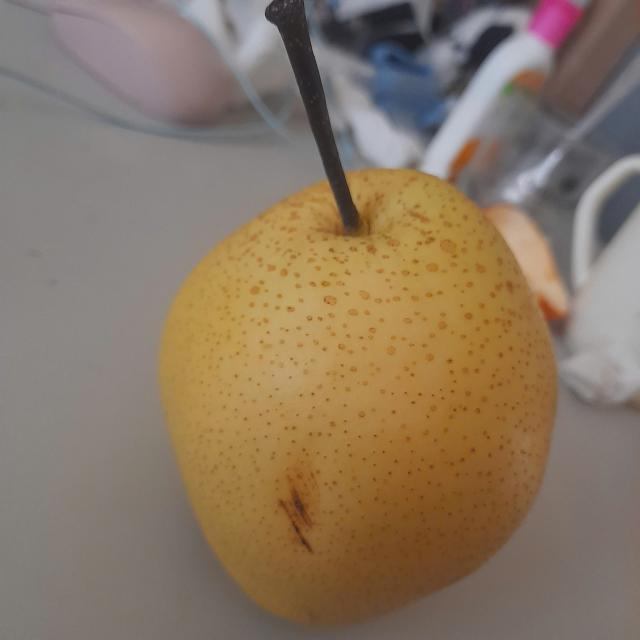Le: (140, 2, 575, 632)
